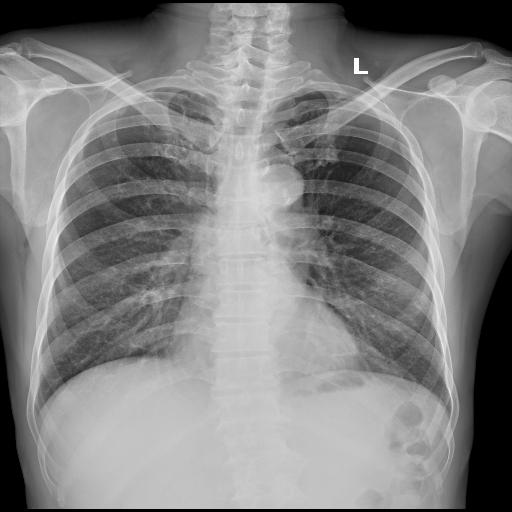Aortic enlargement: (219, 137, 278, 190)
Pleural thickening: (98, 74, 136, 98), (310, 82, 348, 97)
Pulmonary fibrosis: (288, 86, 314, 120), (163, 84, 183, 114)
